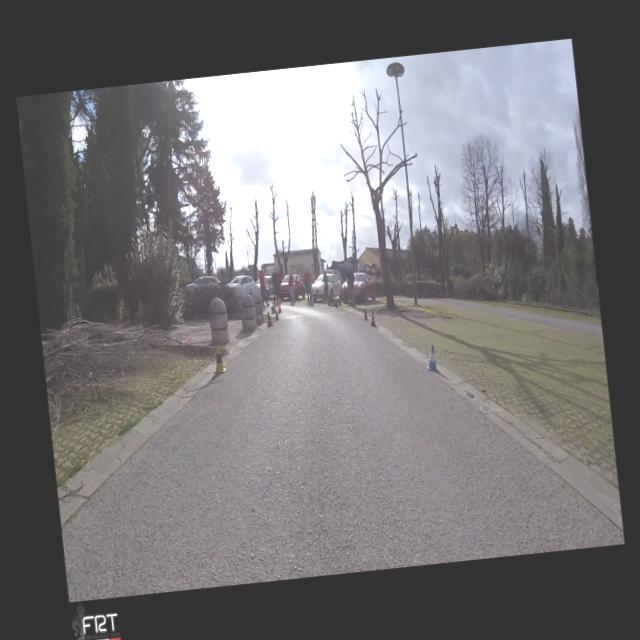blue_cone: (424, 343, 438, 372)
large_orange_cone: (369, 311, 376, 327), (266, 311, 272, 326), (276, 298, 282, 311)
orange_cone: (334, 296, 337, 304)
unknown_cone: (362, 308, 368, 320), (274, 308, 278, 320)
yellow_cone: (211, 344, 227, 373)
